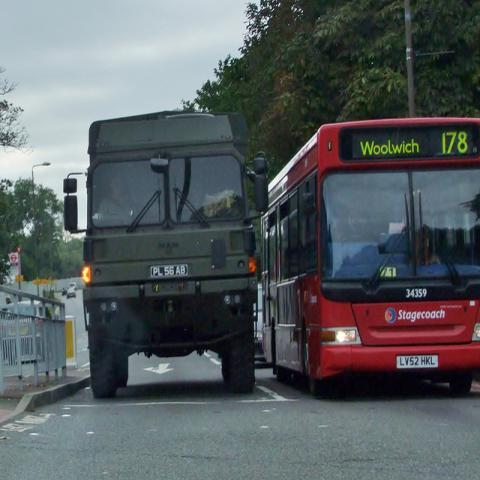bus: (259, 117, 479, 402)
truck: (65, 105, 268, 402)
